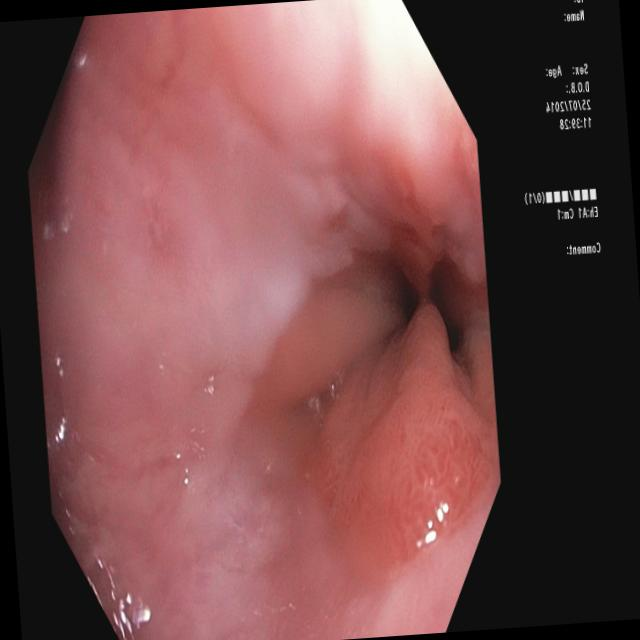Normal-Z-Line: (238, 219, 500, 601)
